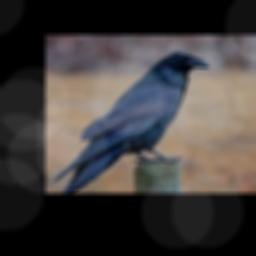Crow: (54, 49, 213, 193)
